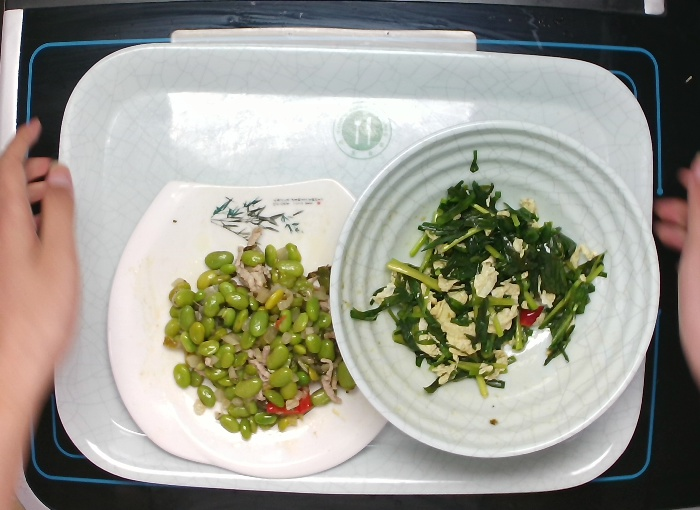JYsf-Da_Tang_Wan: (324, 118, 667, 463)
JYsf-Mian_Pan: (99, 171, 401, 477)
